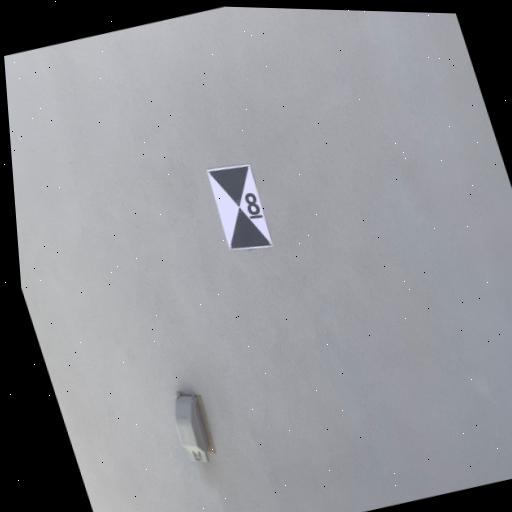target8: (203, 160, 276, 255)
